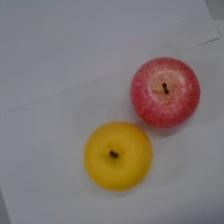red: (129, 56, 199, 129)
yellow: (83, 120, 153, 192)
